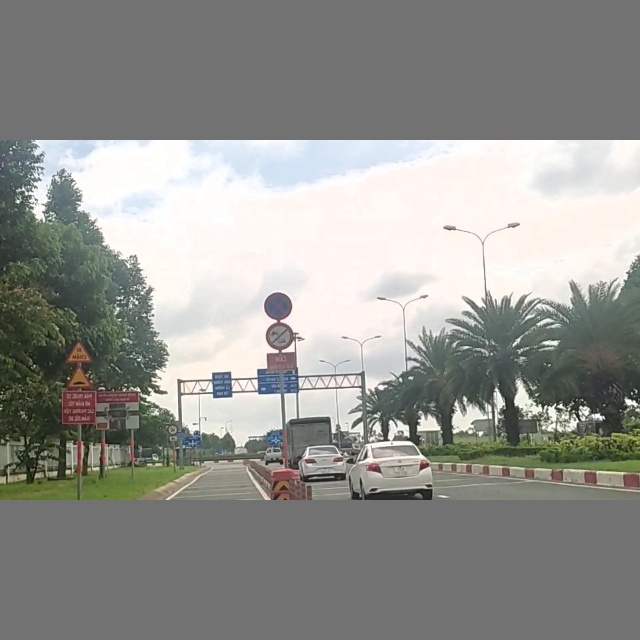P.111: (265, 322, 293, 351)
P.130: (262, 291, 296, 321)
W.221b: (65, 367, 92, 389)
W.245a: (65, 339, 92, 362)
